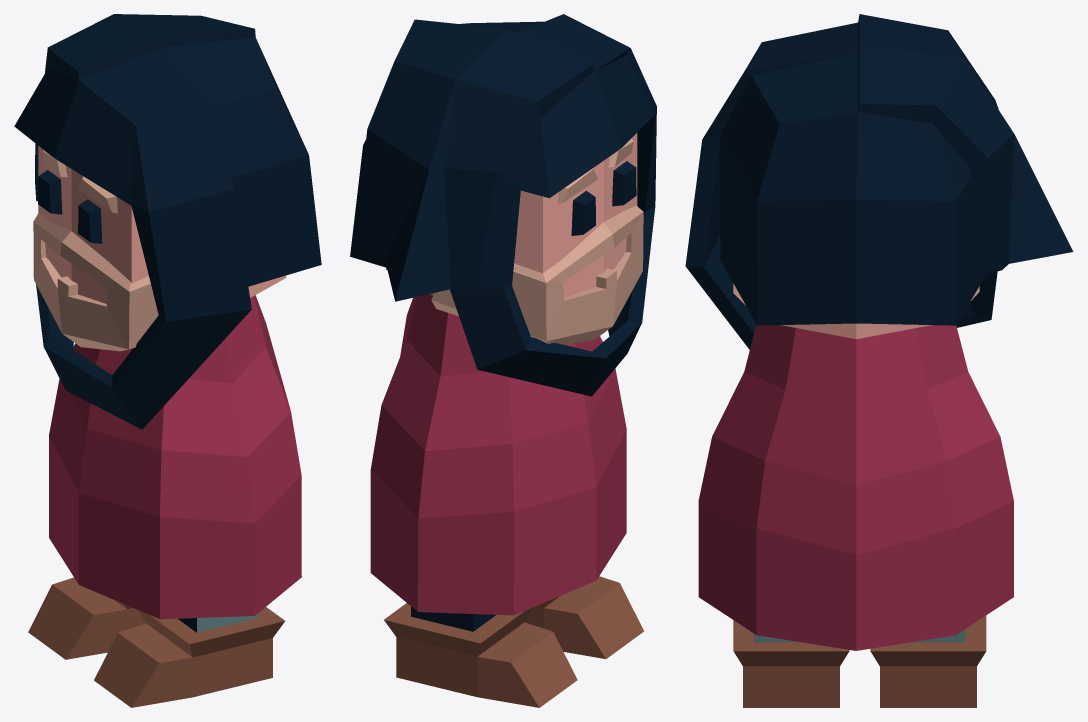
The model's file is SK_Merchant.fbx.
3 views of the same model, side by side, from view 1: azimuth 30°, elevation 25°; view 2: azimuth 150°, elevation 25°; view 3: azimuth 270°, elevation 25° (orthographic). The views are drawn at different scales.
Parts seen in each view (by area): view 1: SK_Character.008; view 2: SK_Character.008; view 3: SK_Character.008.
Boxes of the visible parts, bbox=[...] form: SK_Character.008: bbox=[14, 14, 321, 707]; SK_Character.008: bbox=[350, 14, 656, 707]; SK_Character.008: bbox=[685, 14, 1073, 707].
Bounding box in the file's own units: 58.91 × 142 × 78.56.
